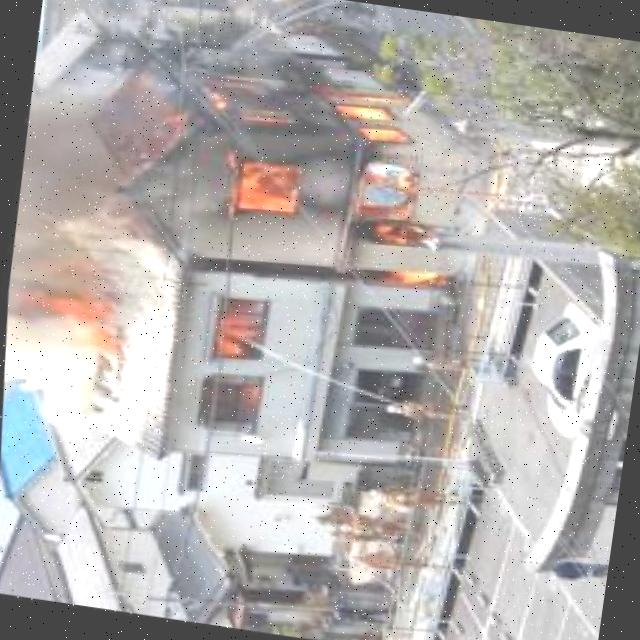fire: (157, 44, 481, 308), (2, 265, 133, 384), (190, 292, 274, 420)
